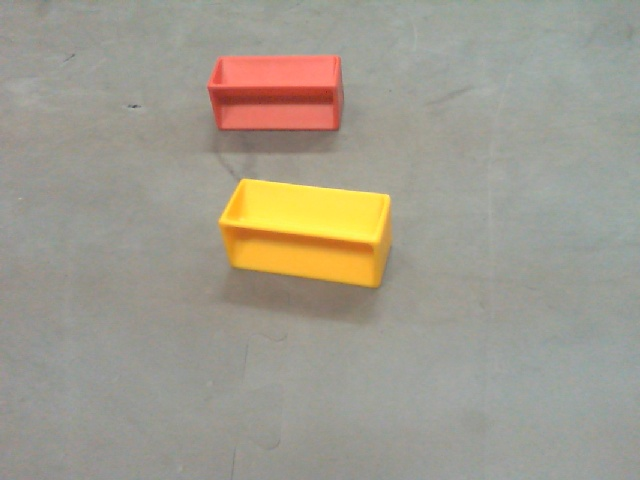RedSample: (206, 52, 346, 137)
YellowSample: (215, 175, 399, 295)
